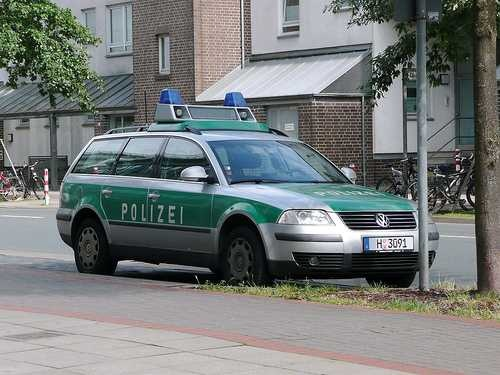Police Car: (46, 91, 458, 304)
